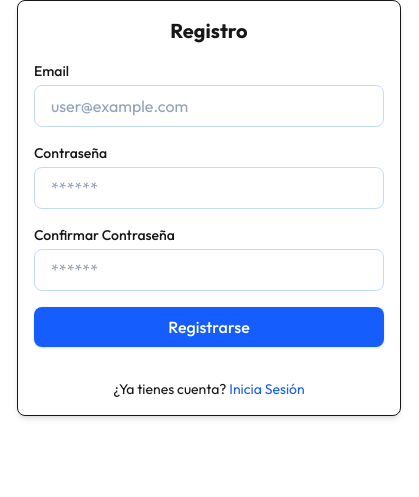
Test case: Signup Flow › validates empty fields
Click the button "Registrarse" at (209, 327), box [34, 307, 384, 347]
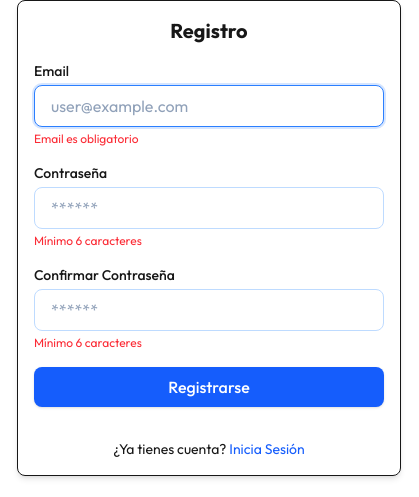
Check: the text "Email es obligatorio" is shown, box [34, 131, 139, 146]
Check: the 1st text "Mínimo 6 caracteres" is shown, box [34, 233, 142, 248]
